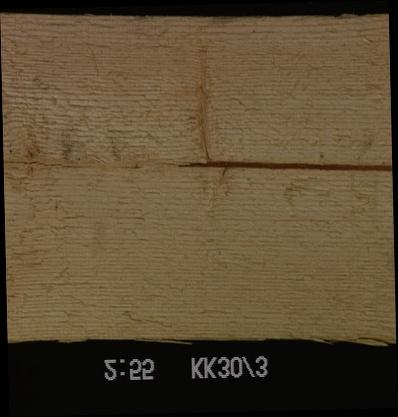split: (4, 155, 197, 177)
